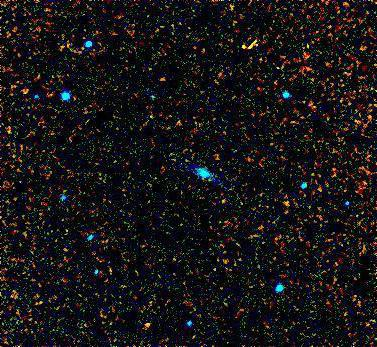star: (131, 313, 161, 343)
